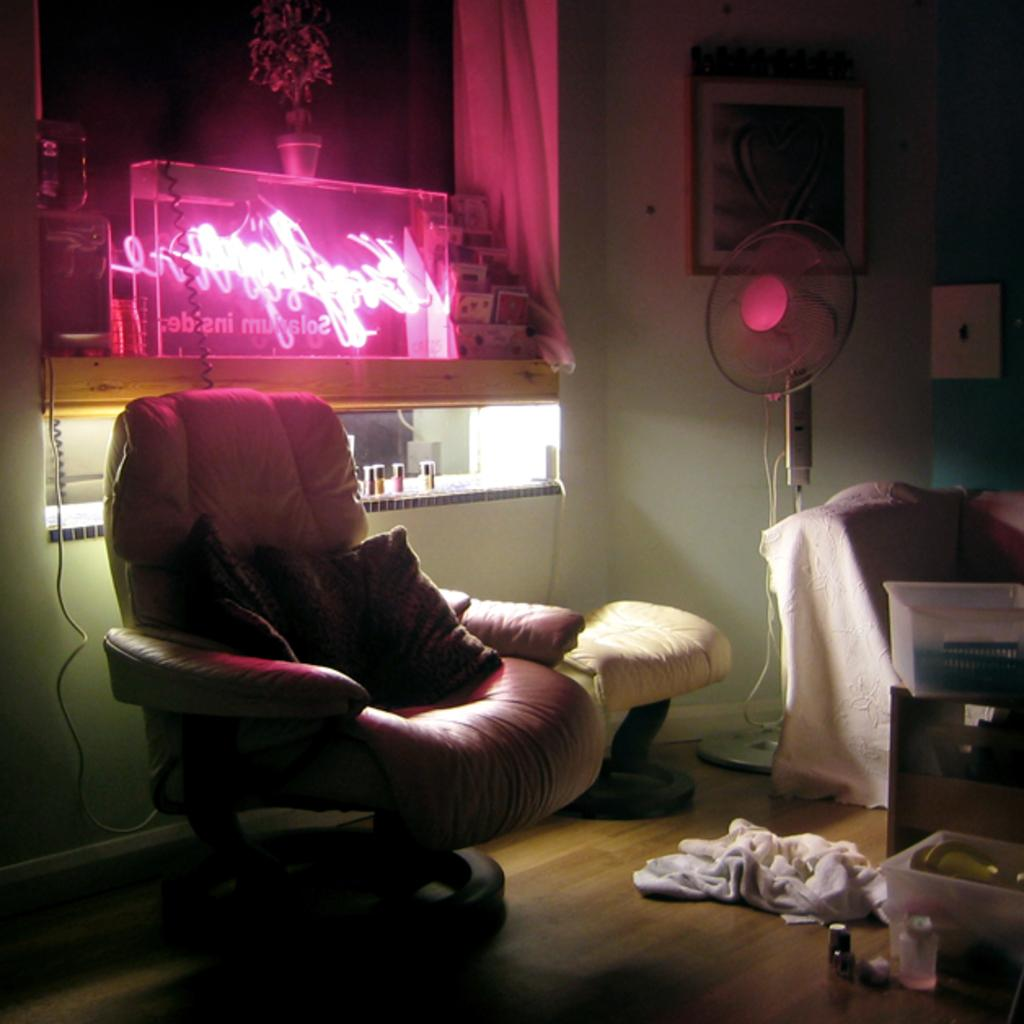Chair: (98, 424, 639, 934)
